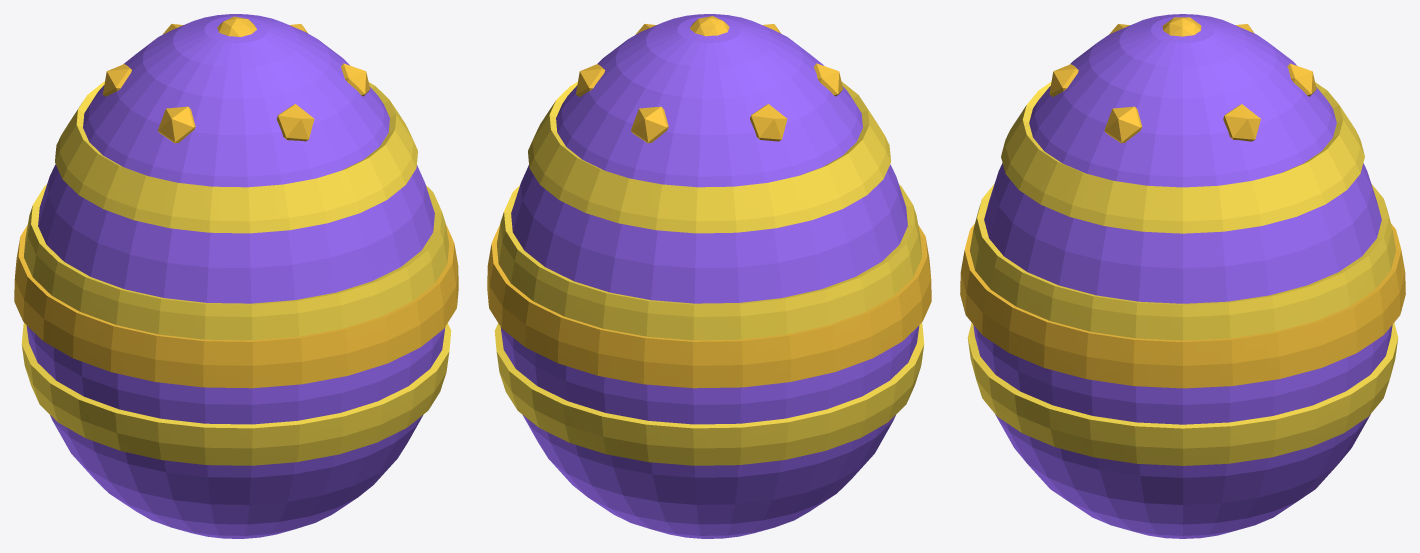
Rendered from BonbonEgg.fbx.
The picture shows the model from 3 angles, left to right: view 1: azimuth 30°, elevation 25°; view 2: azimuth 150°, elevation 25°; view 3: azimuth 270°, elevation 25°; orthographic projection.
Visible parts, largest first — view 1: Egg_9B6BFF, Egg_FFE14A, Egg_FFC83A_Metal; view 2: Egg_9B6BFF, Egg_FFE14A, Egg_FFC83A_Metal; view 3: Egg_9B6BFF, Egg_FFE14A, Egg_FFC83A_Metal.
Boxes of the visible parts, <box> form: Egg_9B6BFF: <box>26,14,445,538</box>; Egg_FFE14A: <box>21,81,451,465</box>; Egg_FFC83A_Metal: <box>14,16,458,388</box>; Egg_9B6BFF: <box>500,14,919,538</box>; Egg_FFE14A: <box>494,82,924,465</box>; Egg_FFC83A_Metal: <box>487,16,931,388</box>; Egg_9B6BFF: <box>973,14,1392,538</box>; Egg_FFE14A: <box>967,82,1398,465</box>; Egg_FFC83A_Metal: <box>960,17,1405,388</box>.
Bounding box in the file's own units: 2.13 × 2.64 × 2.13.
